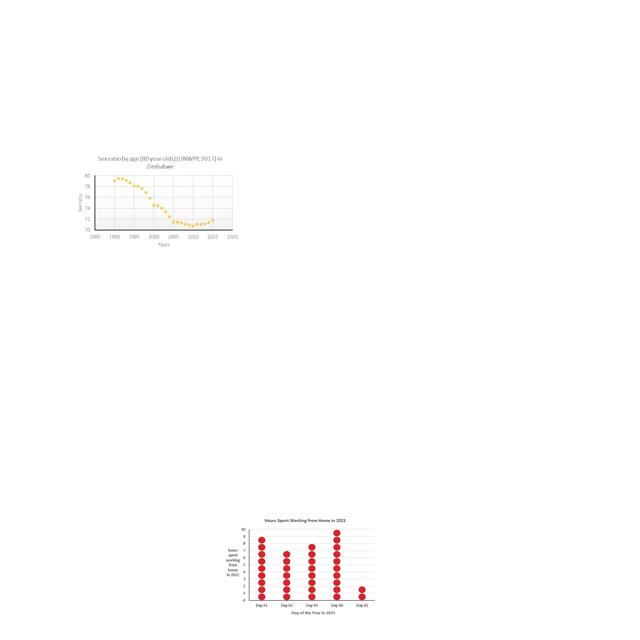Graph: (73, 151, 241, 251), (223, 516, 375, 619)
